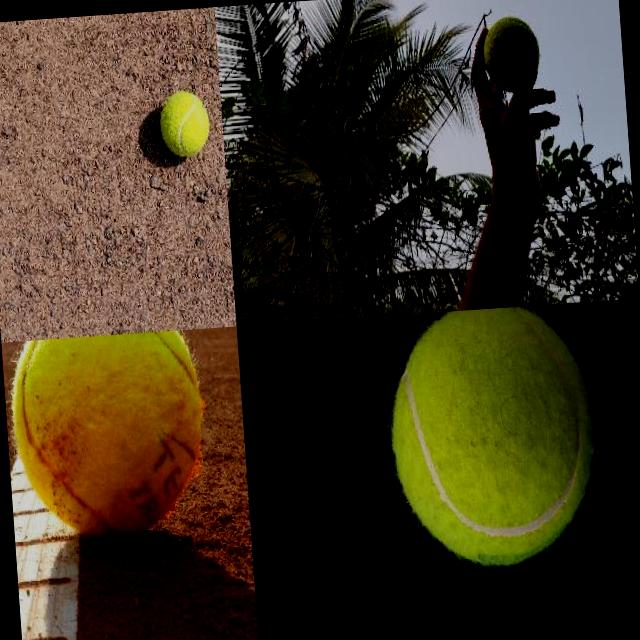tennis-ball: (379, 302, 602, 574), (6, 328, 210, 548), (480, 12, 542, 94), (158, 90, 210, 158)
